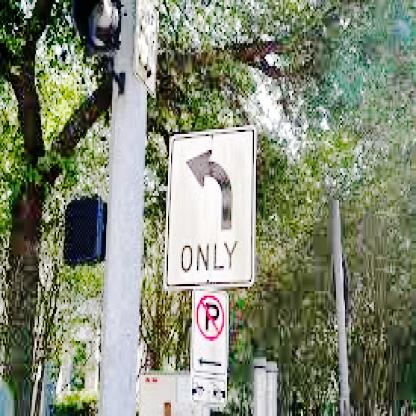No parking: (194, 296, 226, 343)
